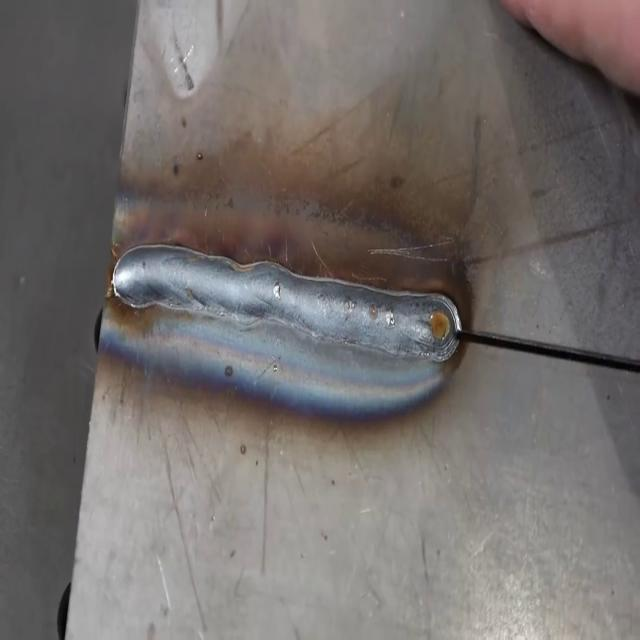Bad Welding: (112, 244, 461, 362)
